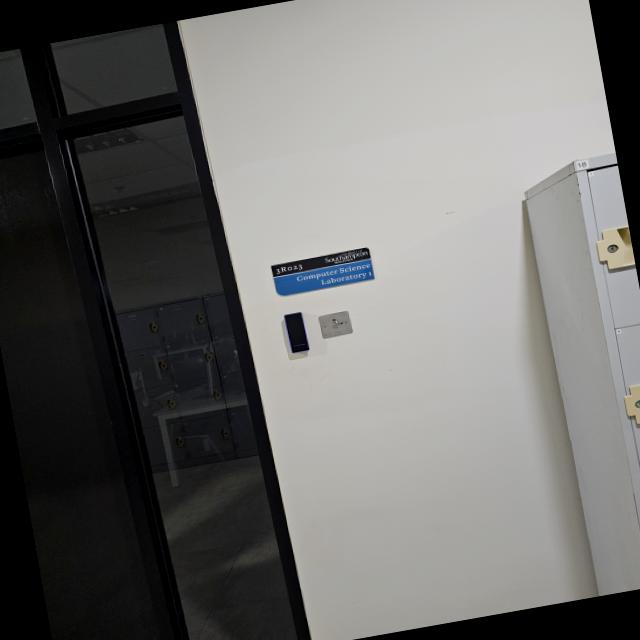obstacle: (514, 150, 640, 595)
